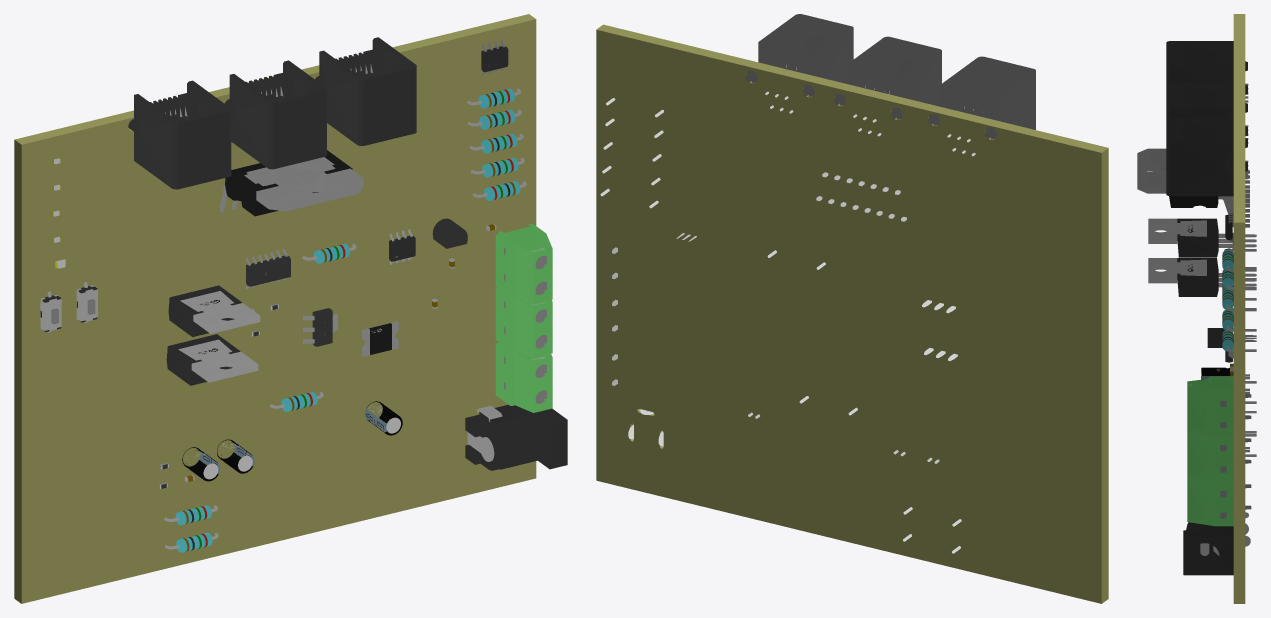
Rendered from OBJ_PCB_LocoNet+ESP+Power.obj.
3 renders of one model, left to right at view 1: azimuth 30°, elevation 25°; view 2: azimuth 150°, elevation 25°; view 3: azimuth 270°, elevation 25°, orthographic. The views are drawn at different scales.
Size of the model in its own units: 420 by 374 by 101.
